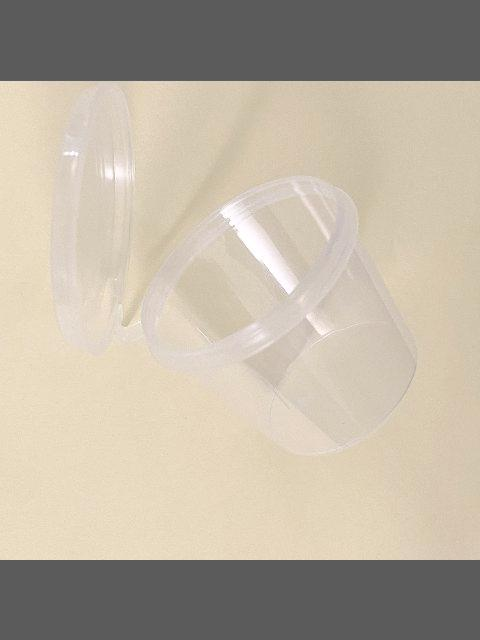plasticcontainer: (47, 80, 420, 458)
